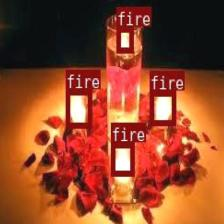fire: (65, 88, 91, 127), (149, 90, 175, 124), (110, 142, 134, 174), (116, 26, 132, 51)
